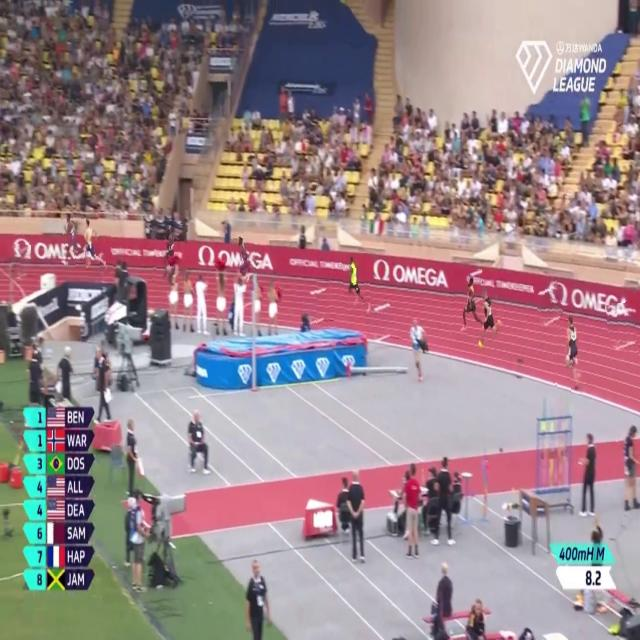athlete: (556, 316, 588, 394), (153, 223, 187, 282), (453, 270, 481, 340), (479, 288, 509, 350), (85, 213, 113, 271), (343, 254, 371, 311), (233, 230, 257, 292), (62, 213, 86, 271)
hurdle: (607, 303, 637, 359), (534, 280, 563, 331), (304, 279, 329, 328), (461, 266, 489, 309), (372, 295, 392, 344), (10, 245, 31, 281)
